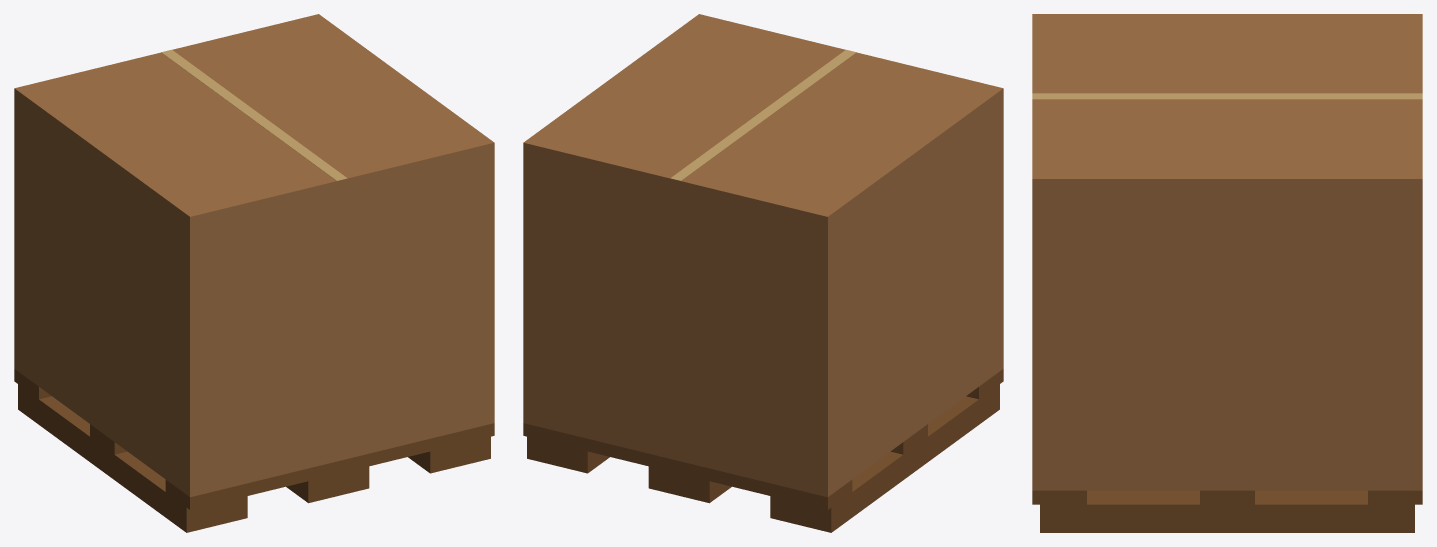
Rendered from pallet_load.dae.
3 renders of one model, left to right at view 1: azimuth 30°, elevation 25°; view 2: azimuth 150°, elevation 25°; view 3: azimuth 270°, elevation 25°, orthographic. The views are drawn at different scales.
Parts seen in each view (by area): view 1: model; view 2: model; view 3: model.
Part boxes in pixels (<box>): model: <box>14,14,494,532</box>; model: <box>523,14,1003,532</box>; model: <box>1032,14,1422,532</box>.
Bounding box in the file's own units: 1 × 1 × 1.
